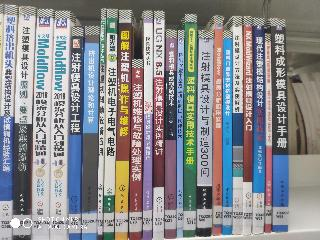book-spine: (14, 8, 36, 239), (33, 10, 53, 239), (51, 12, 70, 240), (0, 5, 18, 240), (271, 19, 288, 232), (82, 26, 98, 239), (116, 11, 130, 240), (183, 14, 197, 237), (198, 31, 213, 236), (105, 10, 117, 240), (70, 27, 83, 239), (253, 18, 264, 233), (130, 60, 143, 239), (165, 29, 176, 238), (154, 12, 164, 239), (232, 17, 242, 234), (143, 11, 152, 239), (214, 16, 223, 234), (244, 17, 252, 234), (176, 31, 184, 238), (225, 31, 233, 234), (265, 34, 272, 233), (99, 8, 105, 239)
